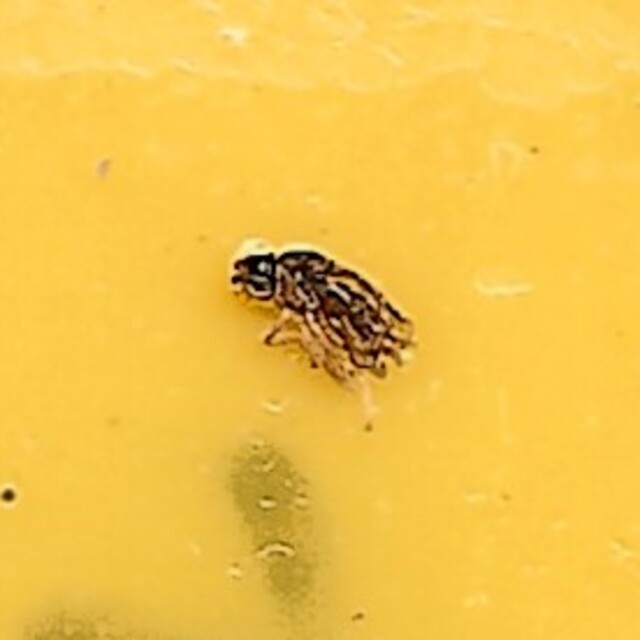Brachycera: (232, 241, 408, 399)
